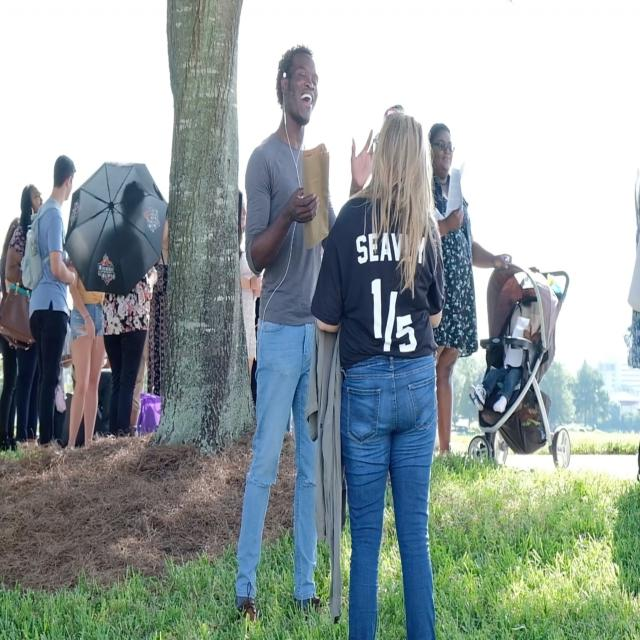body: (235, 43, 375, 629), (307, 98, 453, 639), (424, 120, 514, 473), (18, 153, 80, 448), (1, 181, 44, 454), (101, 265, 158, 437), (64, 252, 109, 454), (0, 214, 30, 450), (468, 328, 542, 414), (145, 217, 171, 409), (238, 187, 263, 386), (626, 156, 640, 509)
